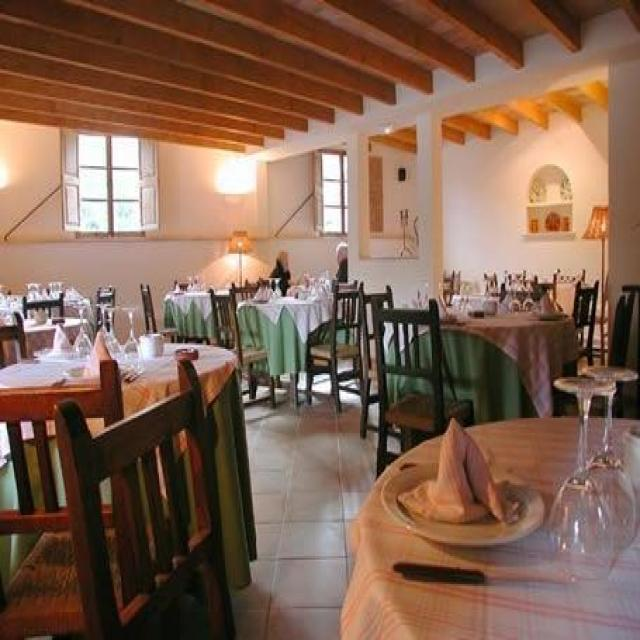table: (0, 340, 256, 632), (338, 412, 638, 638)
table-lamp: (581, 203, 609, 366), (228, 230, 250, 288)
window: (60, 127, 159, 233)
windows: (312, 148, 346, 235)
